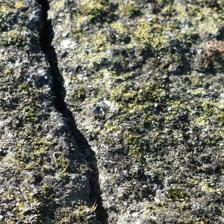Crack: (19, 5, 93, 213)
